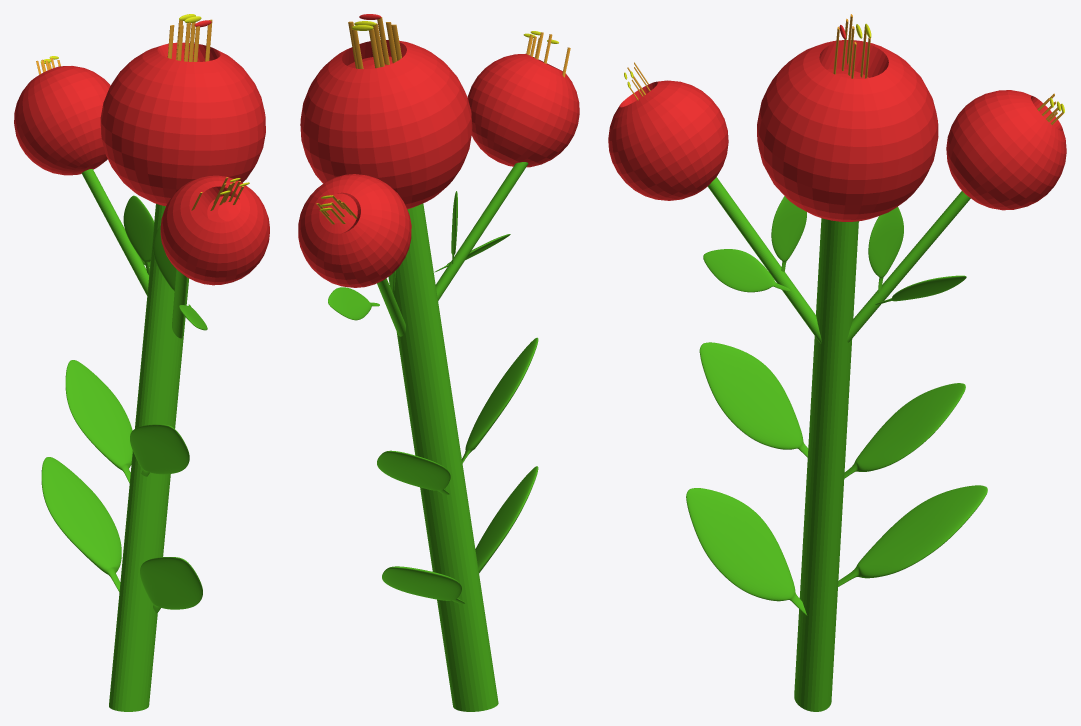
File: flor vermelha.blend cópia.fbx
The picture shows the model from 3 angles, left to right: view 1: azimuth 30°, elevation 25°; view 2: azimuth 150°, elevation 25°; view 3: azimuth 270°, elevation 25°; orthographic projection. The views are drawn at different scales.
Visible parts, largest first — view 1: Esfera UV, Cilindro, Esfera UV.006, Esfera UV.004, Cubo.006, Cubo.003, Cubo.005, Cubo.001, Cilindro.003, Cubo.004, Cilindro.010, Cubo.002; view 2: Esfera UV, Cilindro, Esfera UV.004, Esfera UV.006, Cubo.001, Cubo.003, Cubo.006, Cubo.005, Cilindro.010, Cubo.008, Cilindro.003; view 3: Esfera UV, Cilindro, Esfera UV.006, Esfera UV.004, Cubo.005, Cubo.001, Cubo.006, Cubo.003, Cilindro.010, Cubo.007, Cilindro.003, Cubo.004 (+2 smaller).
Boxes of the visible parts, x1,y1,x2,y2 form: Esfera UV: [100, 42, 265, 206]; Cilindro: [109, 204, 189, 711]; Esfera UV.006: [160, 175, 269, 285]; Esfera UV.004: [14, 66, 110, 175]; Cubo.006: [41, 457, 121, 591]; Cubo.003: [65, 360, 132, 482]; Cubo.005: [140, 557, 202, 613]; Cubo.001: [130, 424, 189, 476]; Cilindro.003: [81, 169, 148, 295]; Cubo.004: [123, 195, 154, 275]; Cilindro.010: [172, 269, 187, 338]; Cubo.002: [153, 225, 176, 291]; Esfera UV: [300, 40, 472, 209]; Cilindro: [388, 203, 498, 711]; Esfera UV.004: [298, 174, 411, 287]; Esfera UV.006: [467, 53, 579, 167]; Cubo.001: [462, 337, 538, 463]; Cubo.003: [377, 450, 450, 494]; Cubo.006: [382, 566, 464, 603]; Cubo.005: [475, 466, 538, 573]; Cilindro.010: [435, 162, 528, 300]; Cubo.008: [328, 287, 379, 320]; Cilindro.003: [377, 278, 405, 336]; Esfera UV: [757, 40, 938, 221]; Cilindro: [794, 218, 858, 711]; Esfera UV.006: [608, 80, 728, 200]; Esfera UV.004: [946, 90, 1066, 210]; Cubo.005: [686, 488, 807, 615]; Cubo.001: [699, 342, 808, 457]; Cubo.006: [838, 485, 987, 586]; Cubo.003: [844, 383, 965, 478]; Cilindro.010: [708, 177, 822, 343]; Cubo.007: [703, 249, 790, 292]; Cilindro.003: [847, 191, 970, 342]; Cubo.004: [868, 207, 903, 293].
Bounding box in the file's own units: 88.79 × 326 × 188.
